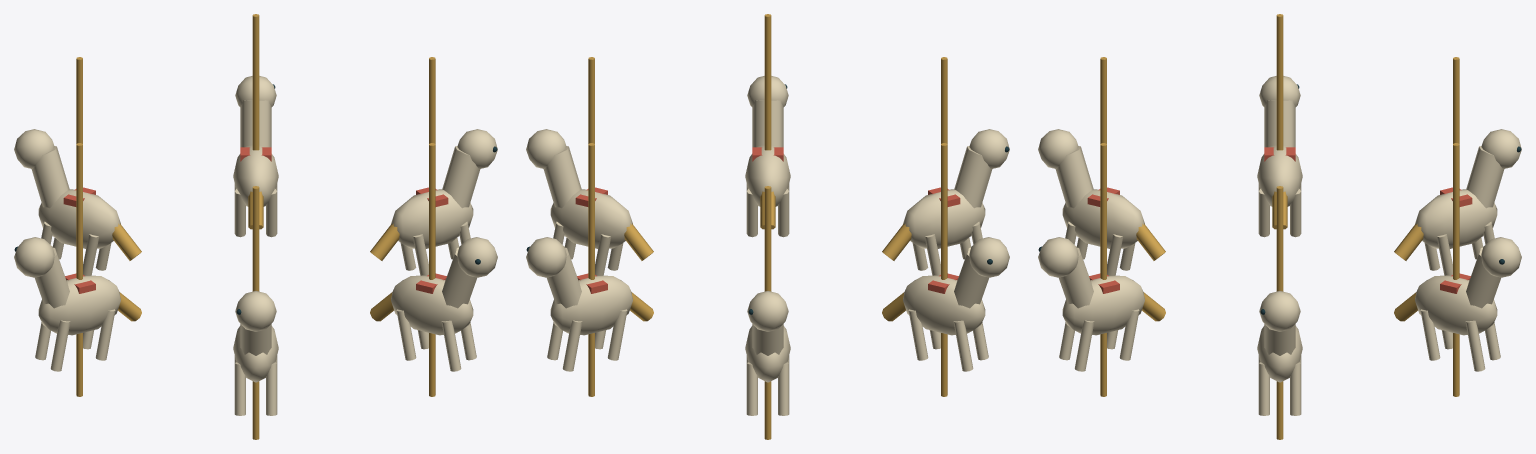
File: carousel_rotor.glb
3 renders of one model, left to right at view 1: azimuth 30°, elevation 25°; view 2: azimuth 150°, elevation 25°; view 3: azimuth 270°, elevation 25°, orthographic.
Visible parts, largest first — view 1: carousel_rotor; view 2: carousel_rotor; view 3: carousel_rotor.
Part boxes in pixels (box(x1,y1,x2,y2)): carousel_rotor: box(14, 14, 497, 439); carousel_rotor: box(526, 14, 1009, 439); carousel_rotor: box(1038, 14, 1521, 439).
Bounding box in the file's own units: 6.38 × 3.2 × 5.59.
